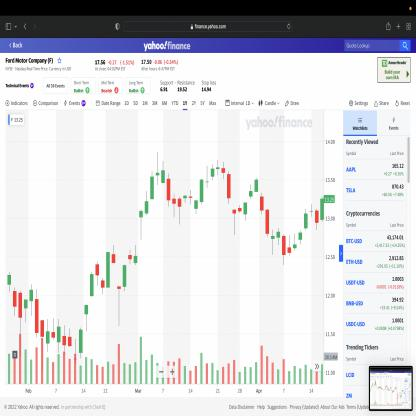Bearish: Evening Star Doji: (303, 202, 319, 235)
Bearish: Kicker: (254, 176, 264, 216)
